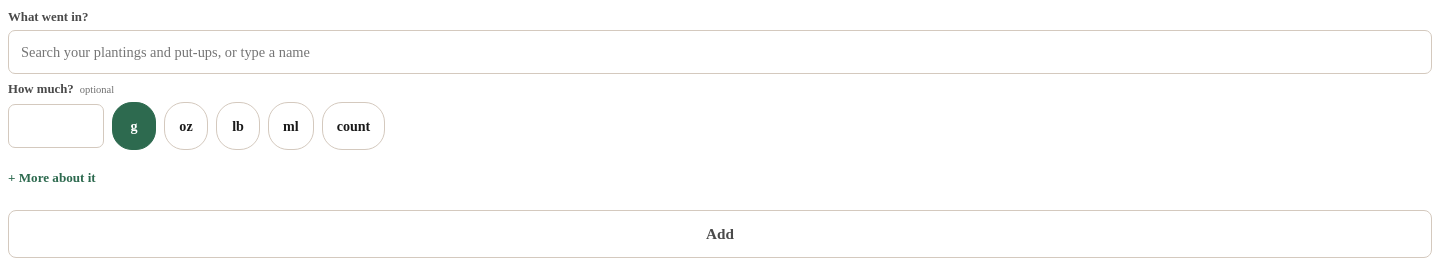
Scenario: Add — filled once there is something to add, the secondary button while the adder is empty › says "Adding…" and cannot be tapped twice while the write is out
The image size is (1440, 275).
Type "onion" into the field with test id "line-add-name" at (720, 52), box [8,30,1432,74]
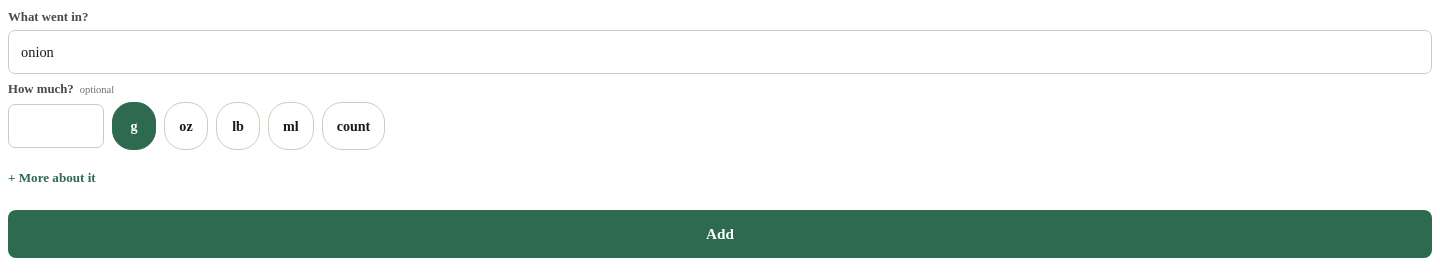
Click the button with test id "line-add-submit" at (720, 234), box [8,210,1432,258]
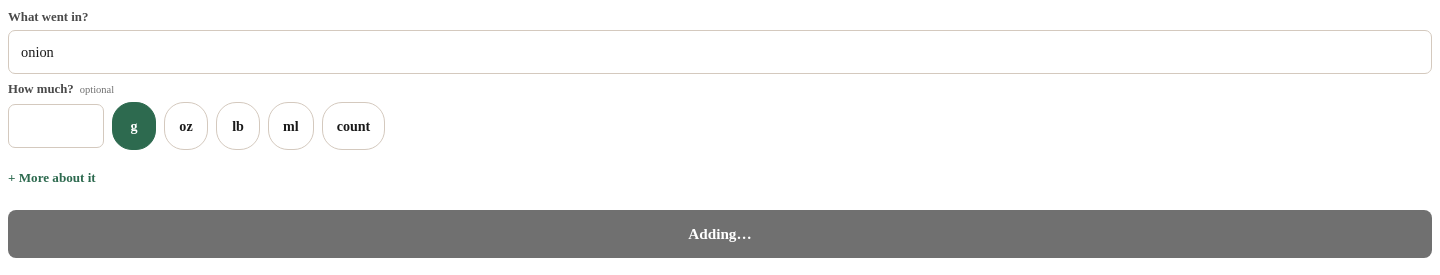
Result: the button with test id "line-add-submit" reads "Adding…"
Result: the button with test id "line-add-submit" is disabled
Click the button with test id "line-add-submit" at (720, 234), box [8,210,1432,258]
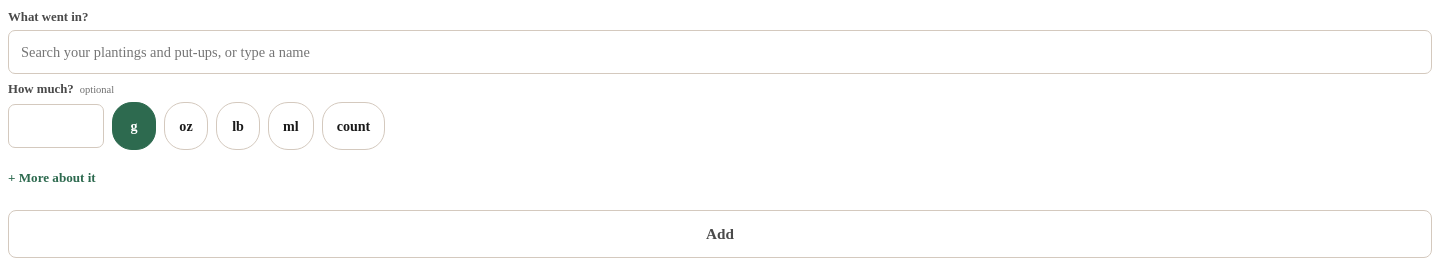
Result: the button with test id "line-add-submit" reads "Add" at [8,210,1432,258]
